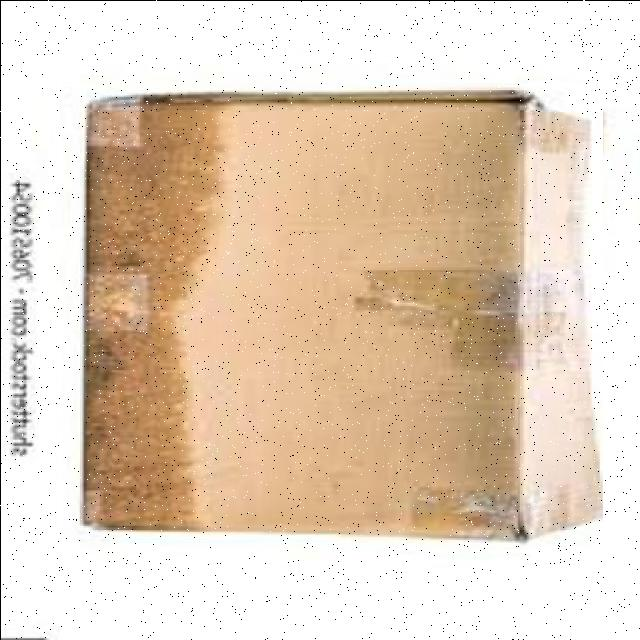defect: (72, 82, 602, 546)
